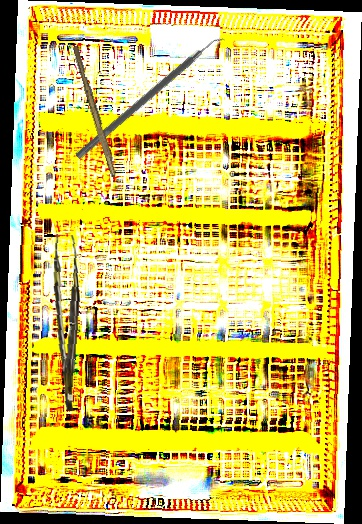Scalpel Handle: (69, 45, 121, 178)
Spatula Surgical: (74, 30, 228, 166)
Tissue Forceps: (43, 234, 86, 411)
